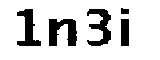1: (15, 8, 44, 49)
3: (85, 7, 114, 51)
i: (118, 5, 135, 51)
n: (48, 16, 79, 47)
